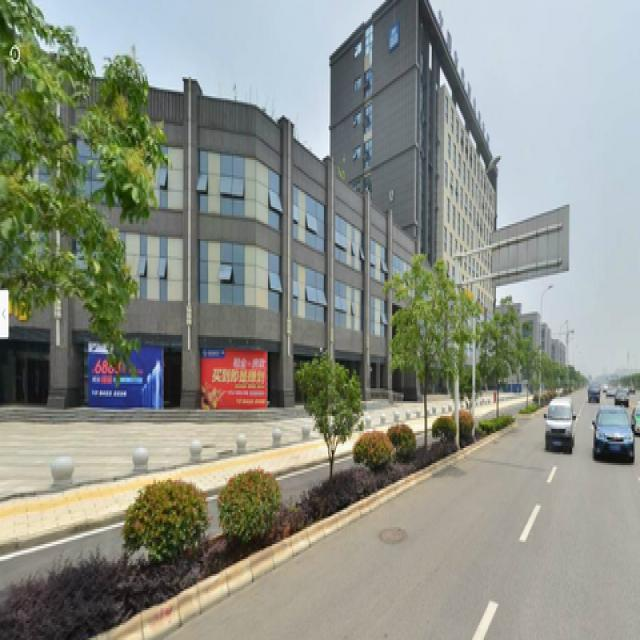sali: (385, 252, 448, 446)
